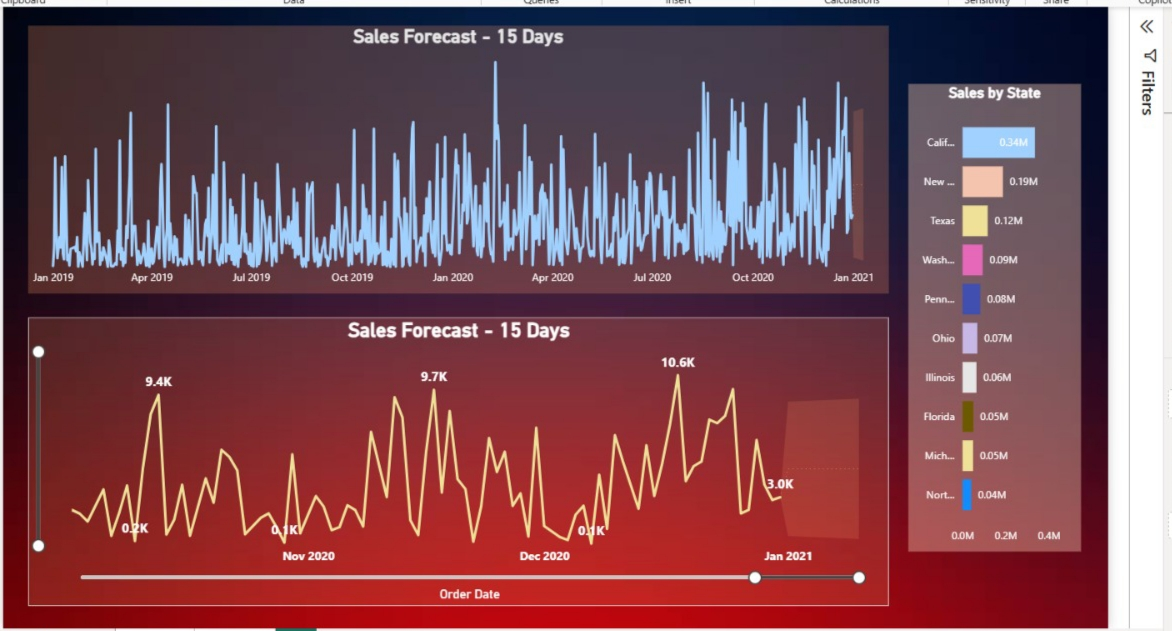

What the dashboard file says about the page in this screenshot:
{"tool":"powerbi","page":{"name":"Page 2","canvas":[1280,720],"ordinal":1},"visuals":[{"type":"lineChart","title":"Sales Forecast - 15 Days","fields":{"Y":["Sum(SuperStore_Sales_Dataset.Sales)"],"Category":["SuperStore_Sales_Dataset.Order Date"]},"box":[29,21.7,996.5,310.1],"z":0},{"type":"lineChart","title":"Sales Forecast - 15 Days","fields":{"Y":["Sum(SuperStore_Sales_Dataset.Sales)"],"Category":["SuperStore_Sales_Dataset.Order Date"]},"box":[29,359.5,996.5,334.2],"z":1000},{"type":"clusteredBarChart","title":" Sales by State","fields":{"Category":["SuperStore_Sales_Dataset.State"],"Y":["Sum(SuperStore_Sales_Dataset.Sales)"]},"box":[1048.4,89.3,200.3,541.7],"z":2000}]}

Visuals, with their boxes on the page's 1280x720 design canvas (x1, y1, x2, y2). These are canvas units, not pixel positions in the 1172x631 screenshot, which may show the page scaled, cropped or inside an application window:
"Sales Forecast - 15 Days" lineChart: [29, 22, 1026, 332]
"Sales Forecast - 15 Days" lineChart: [29, 360, 1026, 694]
" Sales by State" clusteredBarChart: [1048, 89, 1249, 631]
